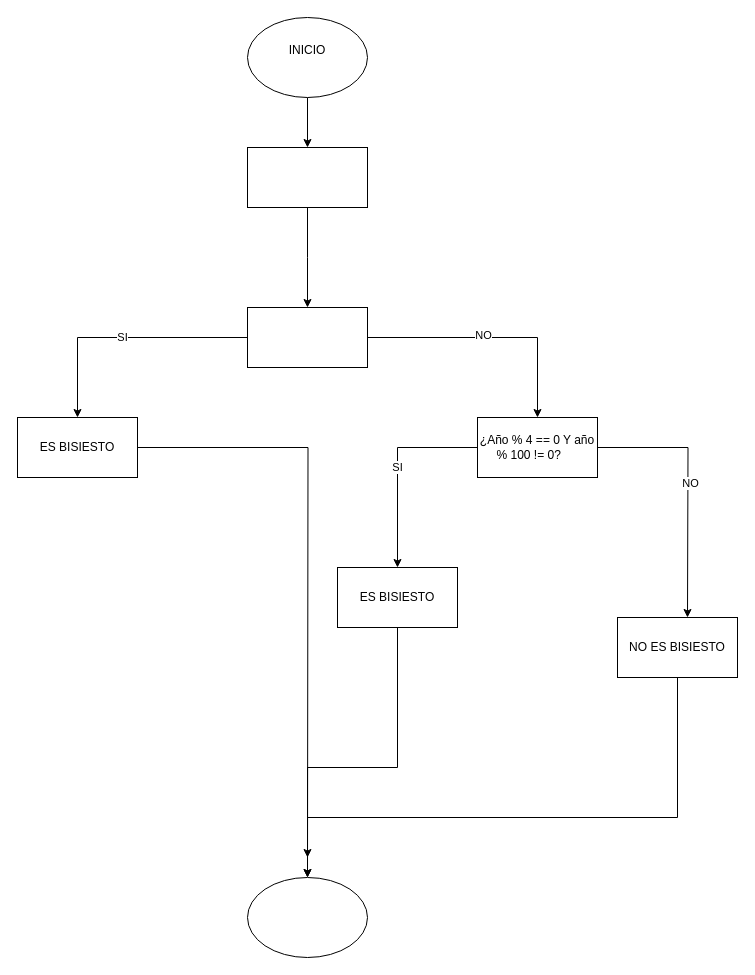
The diagram is 755 pixels wide and 975 high, and some of its shapes have lost their labels. The centre of each missing label's shape, as x and y in pixels:
"FIN" belongs at pixel 307 917.
"INSERTAR UN AÑO" belongs at pixel 307 177.
"¿Año % 400 == 0?" belongs at pixel 307 337.
